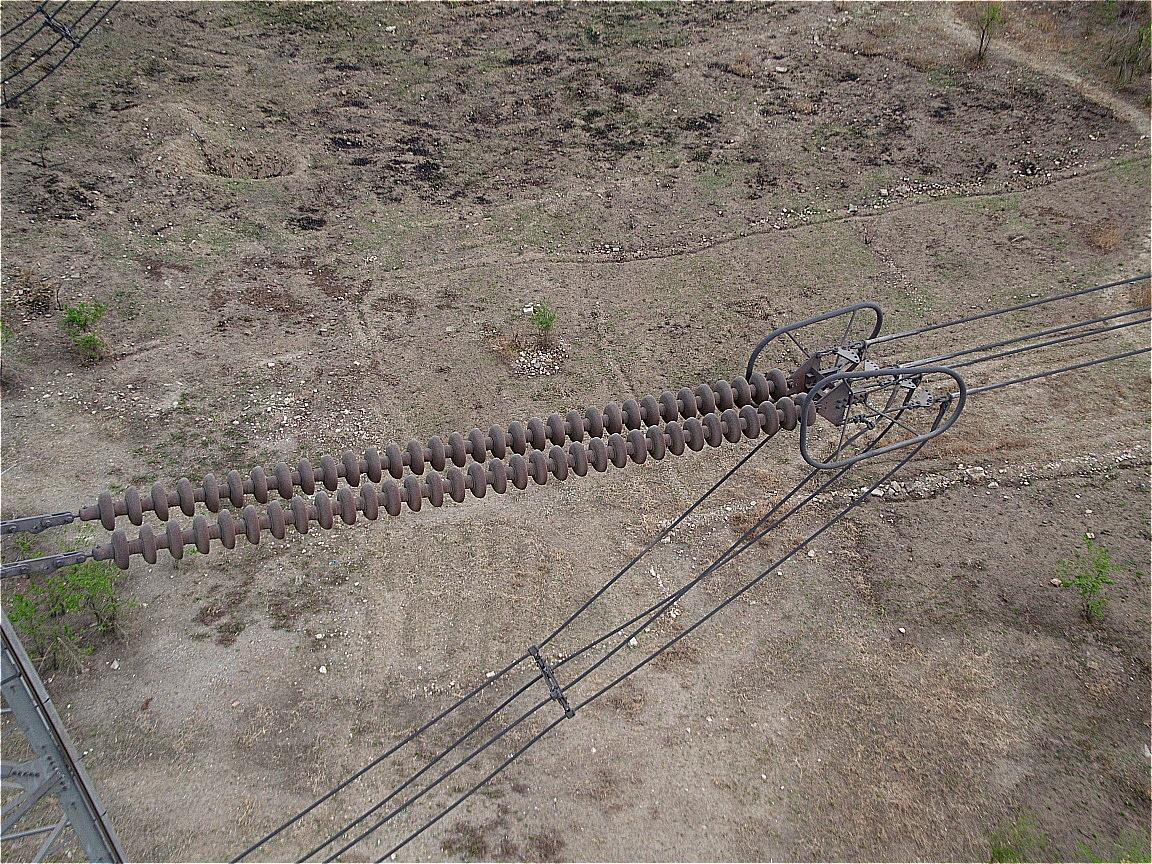insultor1: (96, 367, 817, 571)
